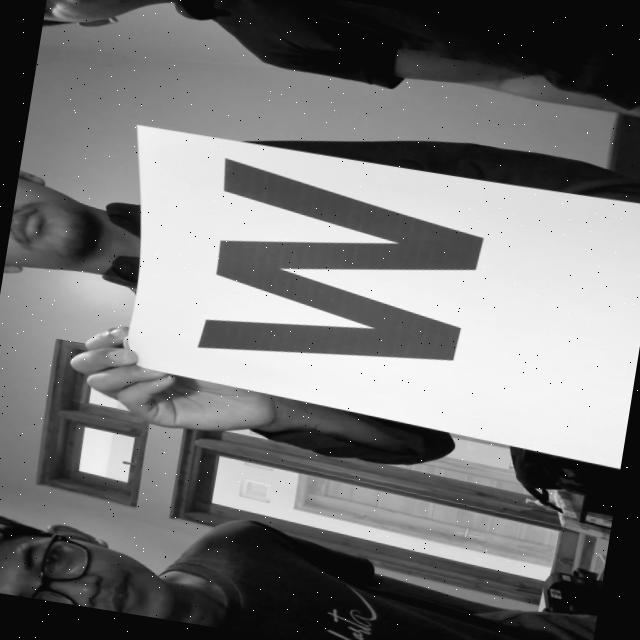w: (154, 140, 517, 404)
